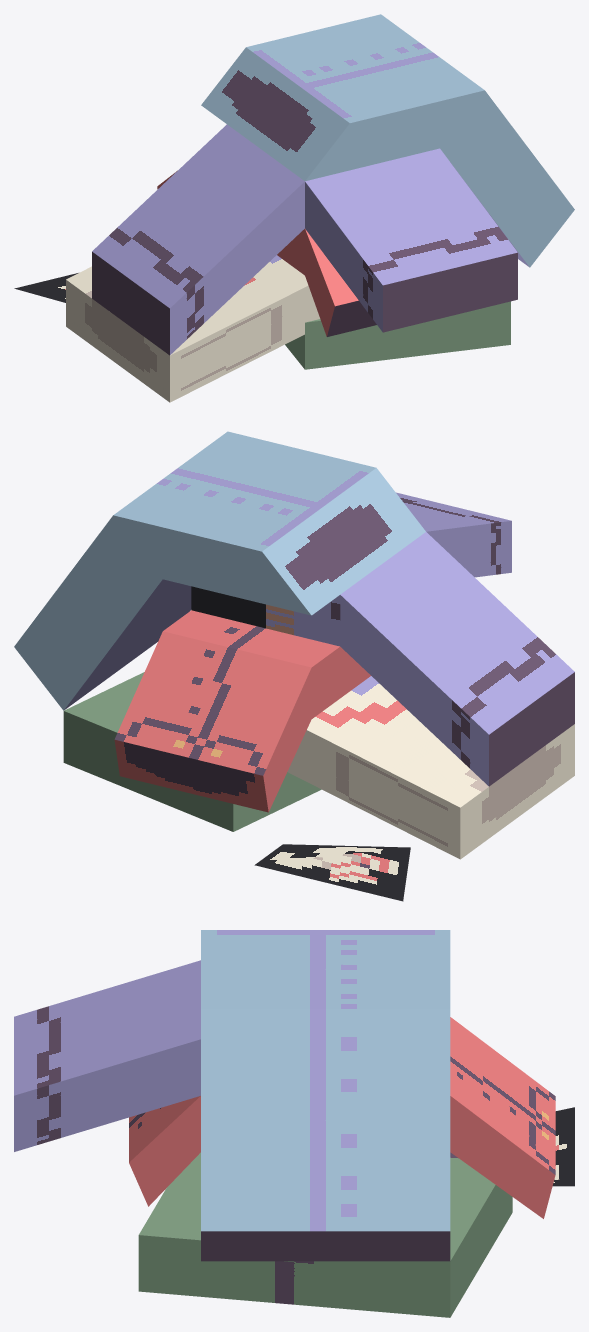
Rendered from ClothesPile.gltf.
3 views of the same model, one above another, from view 1: azimuth 30°, elevation 25°; view 2: azimuth 150°, elevation 25°; view 3: azimuth 270°, elevation 25° (orthographic). The views are drawn at different scales.
Size of the model in its own units: 2.25 by 1.25 by 2.25.
Materials: 1 (1 with a texture image).
